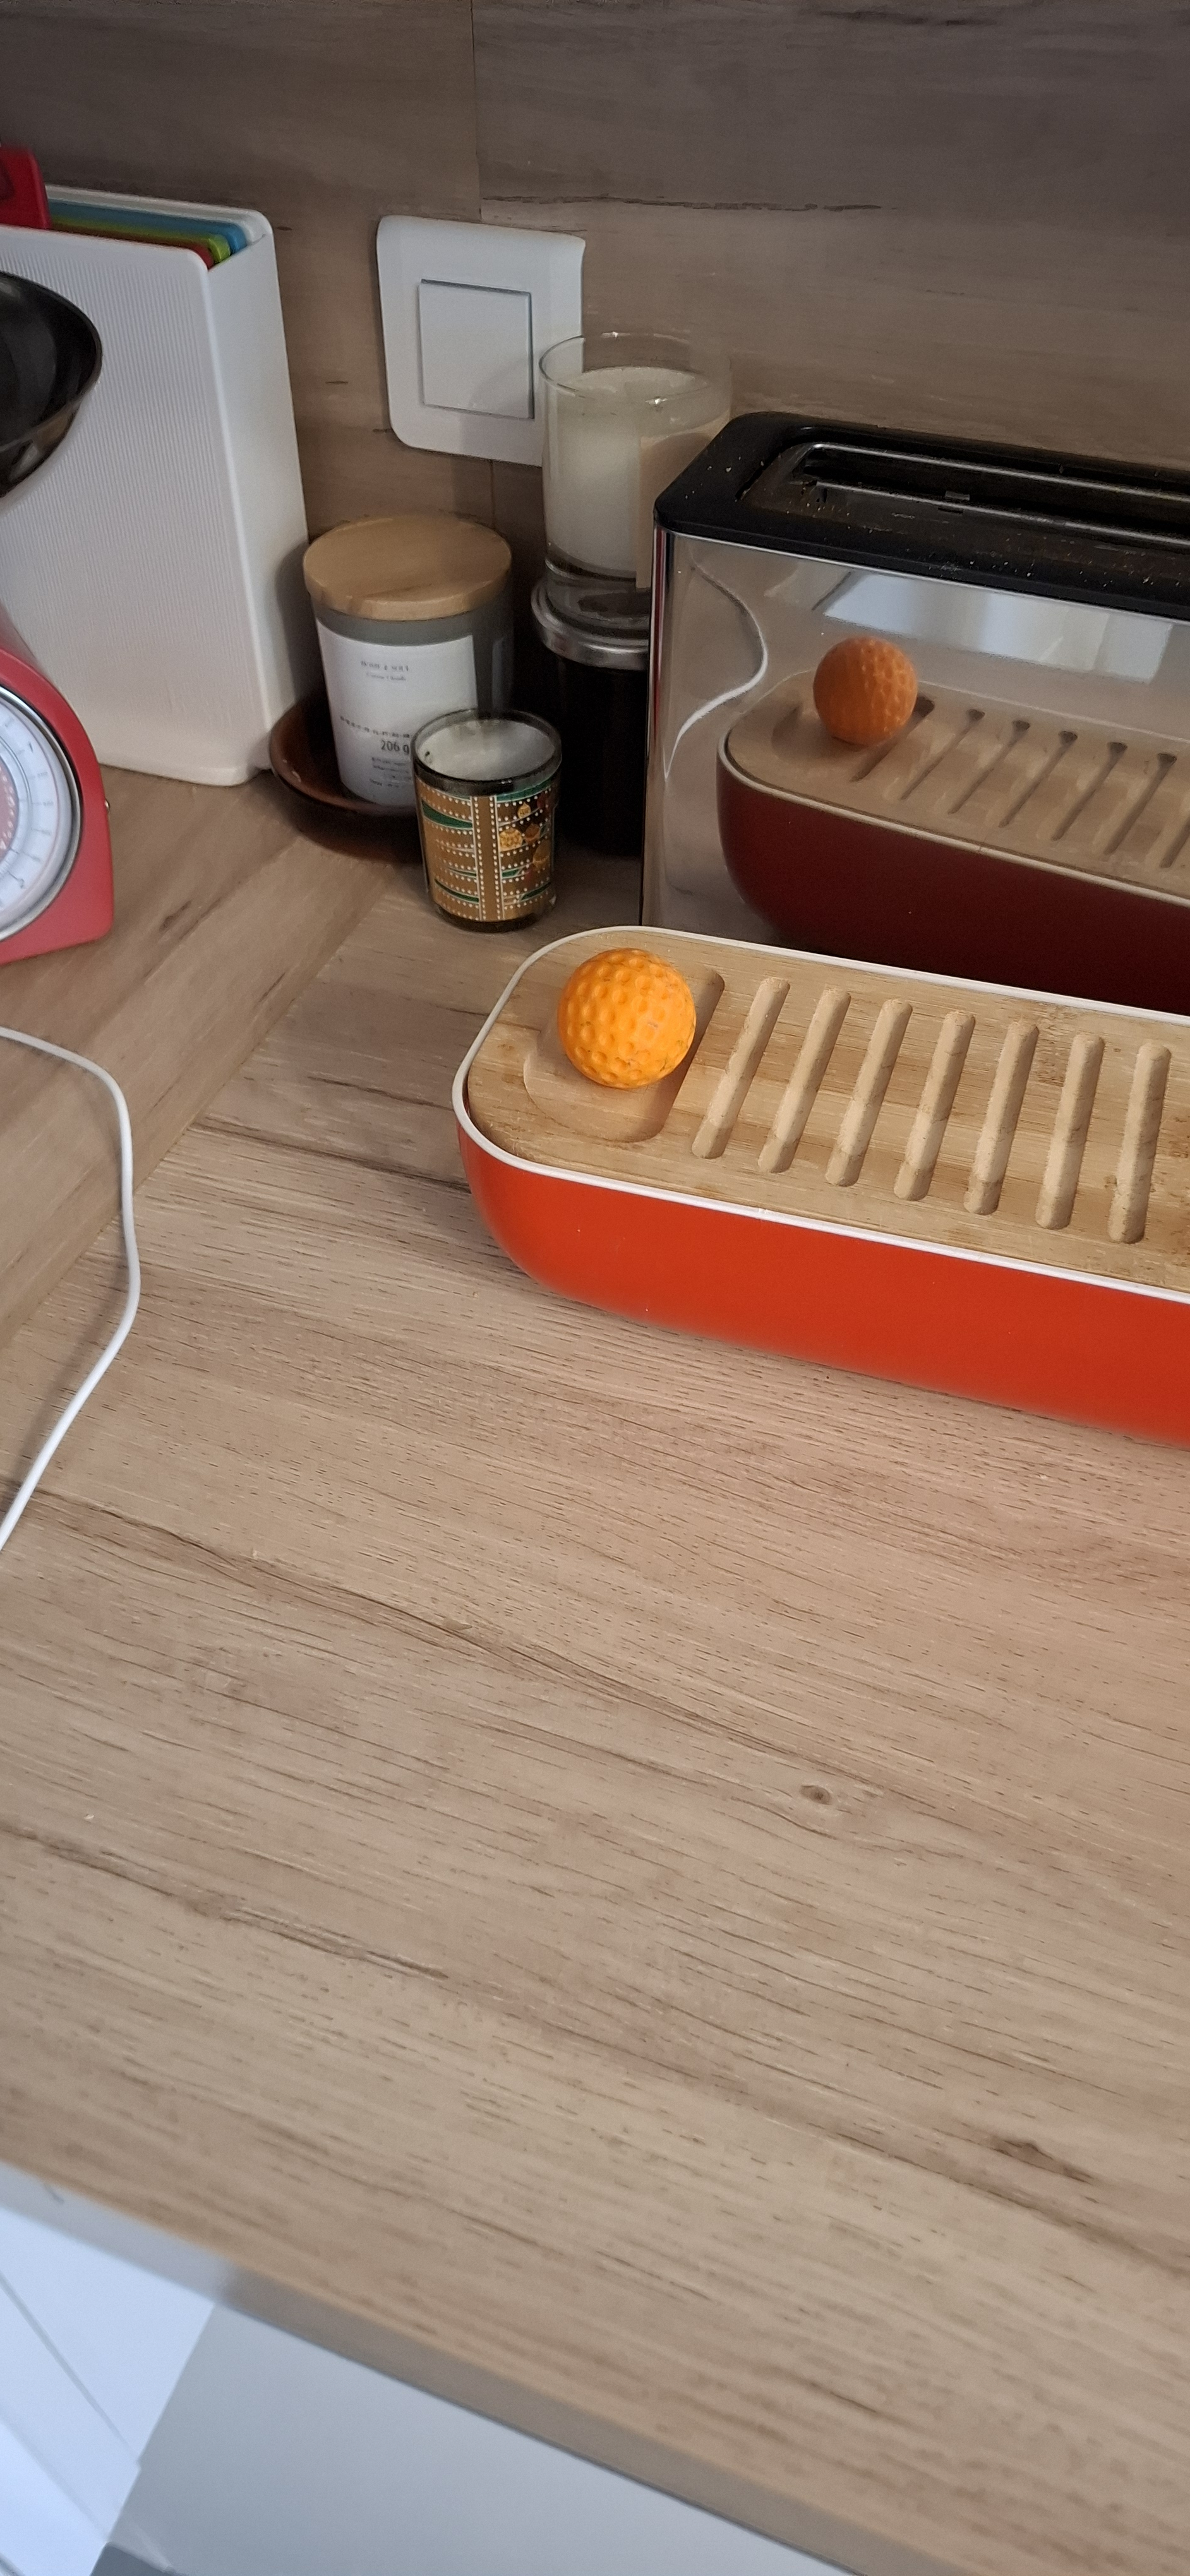ball: (440, 1065, 503, 1377)
